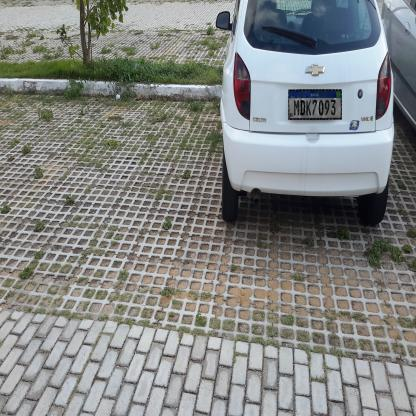PlacaM: (288, 89, 342, 120)
